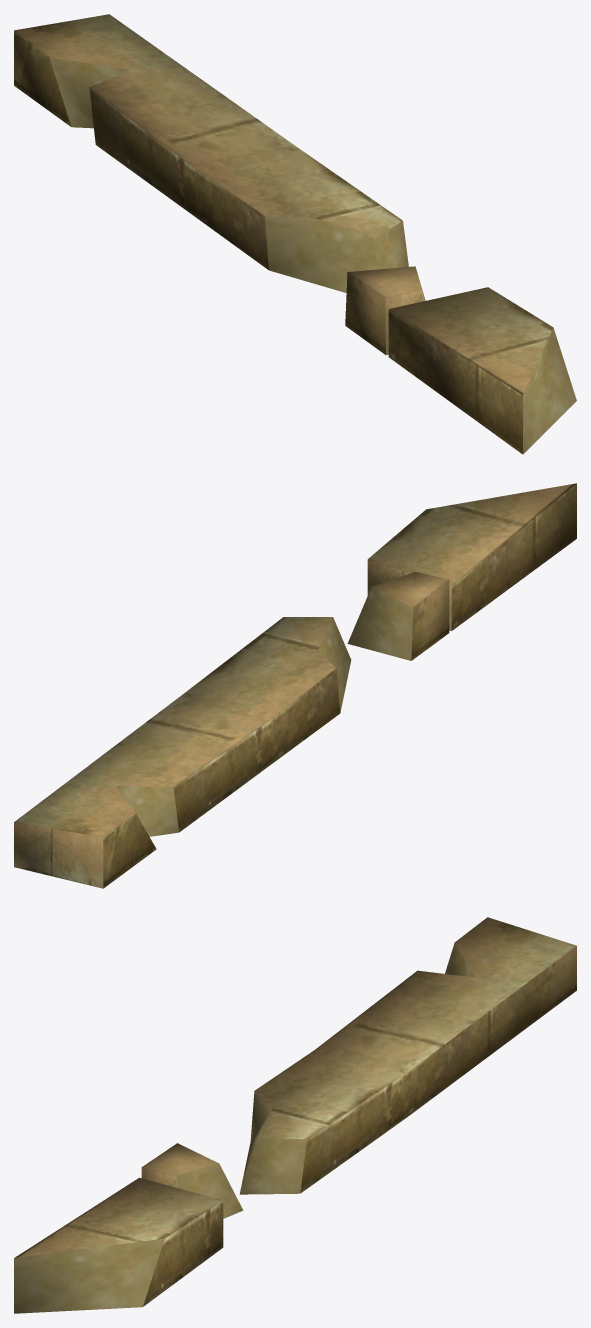
The model's file is S_Build_Wilderness039.FBX.
3 views of the same model, one above another, from view 1: azimuth 30°, elevation 25°; view 2: azimuth 150°, elevation 25°; view 3: azimuth 330°, elevation 25° (orthographic). The views are drawn at different scales.
Visible parts, largest first — view 1: S_Build_Wilderness039; view 2: S_Build_Wilderness039; view 3: S_Build_Wilderness039.
Boxes of the visible parts, left/top/right/bottom form: S_Build_Wilderness039: left=14, top=14, right=576, bottom=454; S_Build_Wilderness039: left=14, top=483, right=576, bottom=888; S_Build_Wilderness039: left=14, top=917, right=576, bottom=1313.
Size of the model in its own units: 33.15 by 294 by 19.88.
